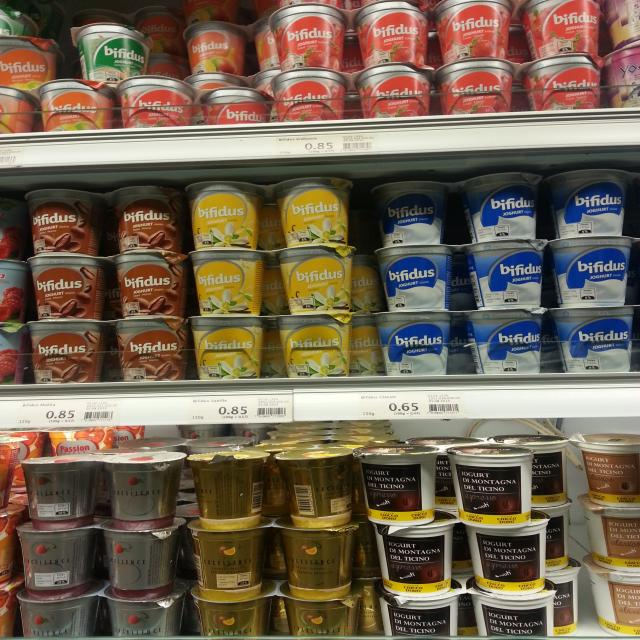Yoghurt: (363, 432, 568, 528), (380, 515, 577, 587), (382, 573, 586, 640), (183, 444, 359, 520), (11, 521, 181, 598), (181, 516, 356, 586), (28, 448, 185, 526), (188, 251, 366, 319), (382, 174, 549, 245), (374, 311, 547, 379), (440, 47, 600, 119), (192, 179, 358, 248), (271, 69, 441, 136), (380, 241, 547, 308), (271, 5, 439, 70), (33, 254, 193, 321), (31, 323, 190, 389), (27, 190, 181, 255), (16, 583, 190, 640), (188, 320, 358, 378), (433, 0, 603, 58), (190, 585, 359, 640), (115, 76, 274, 126), (549, 176, 640, 236), (180, 20, 271, 80), (71, 20, 155, 83), (560, 301, 640, 366), (557, 241, 640, 303), (44, 78, 122, 133), (0, 30, 65, 91), (585, 435, 640, 505), (587, 501, 640, 570), (591, 566, 640, 636)
